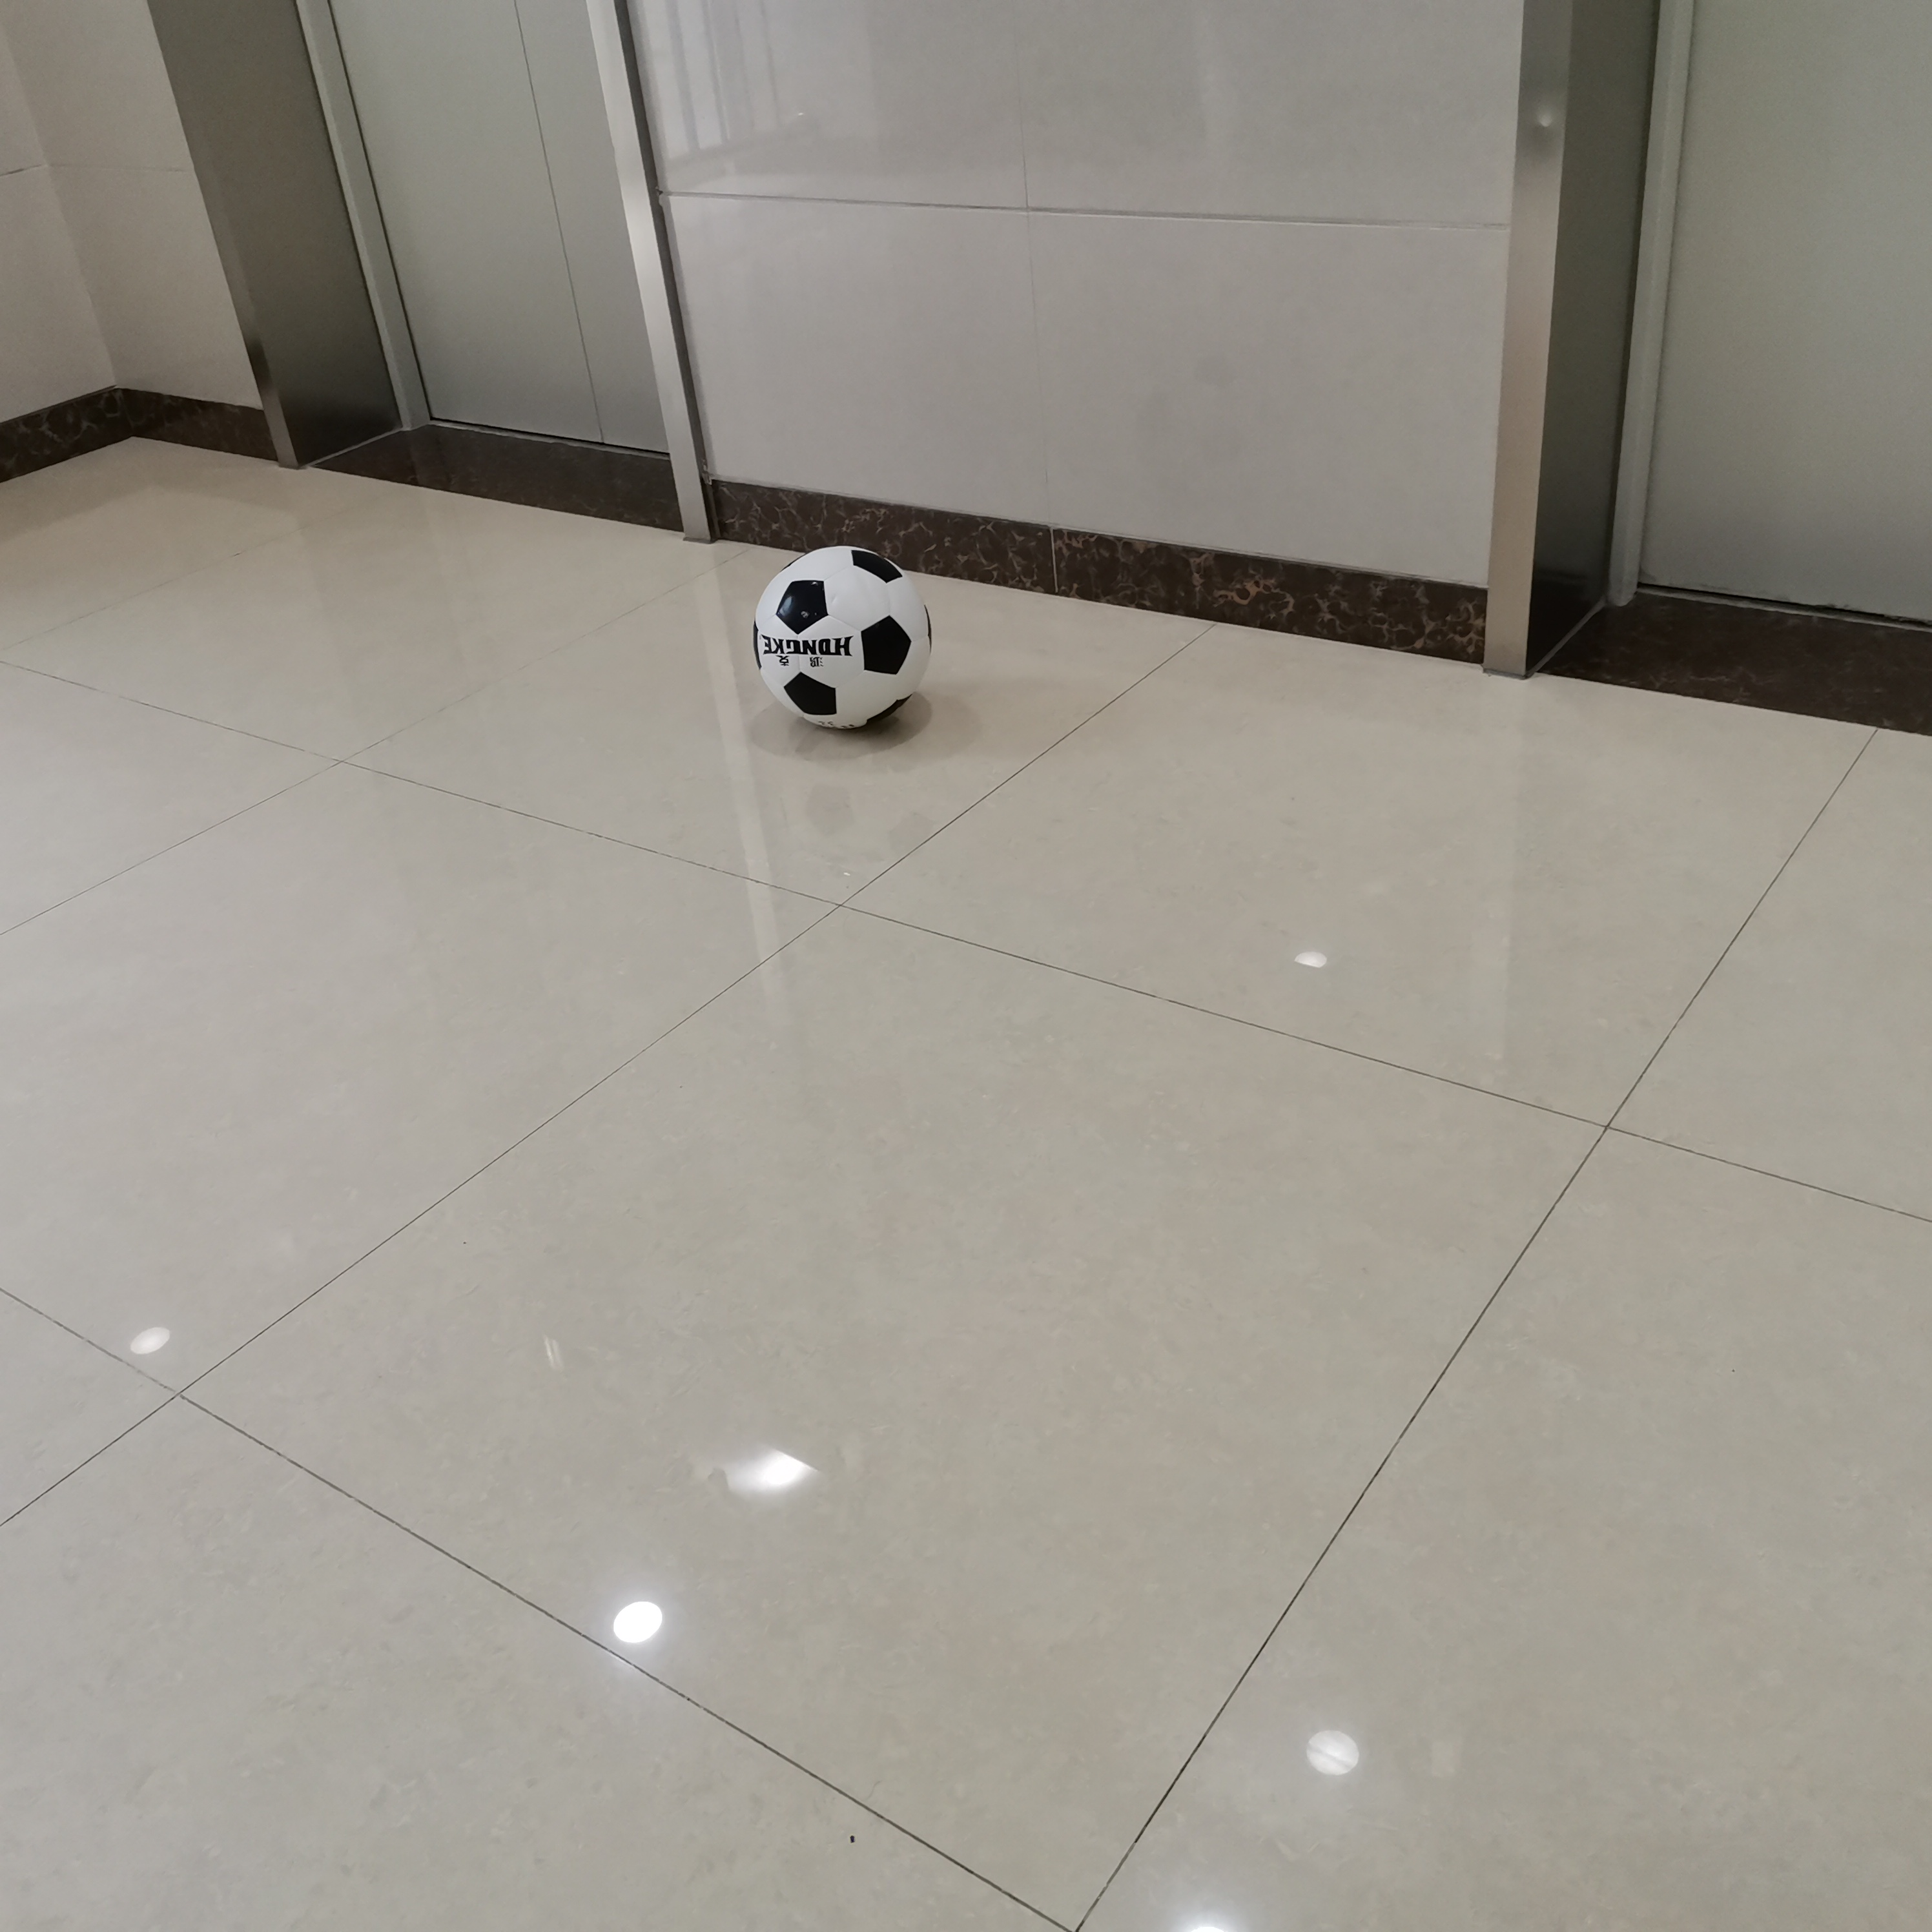football: (752, 545, 932, 731)
